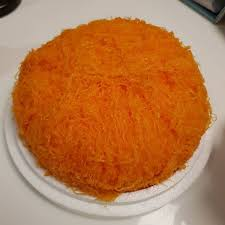foitong: (23, 17, 211, 199)
